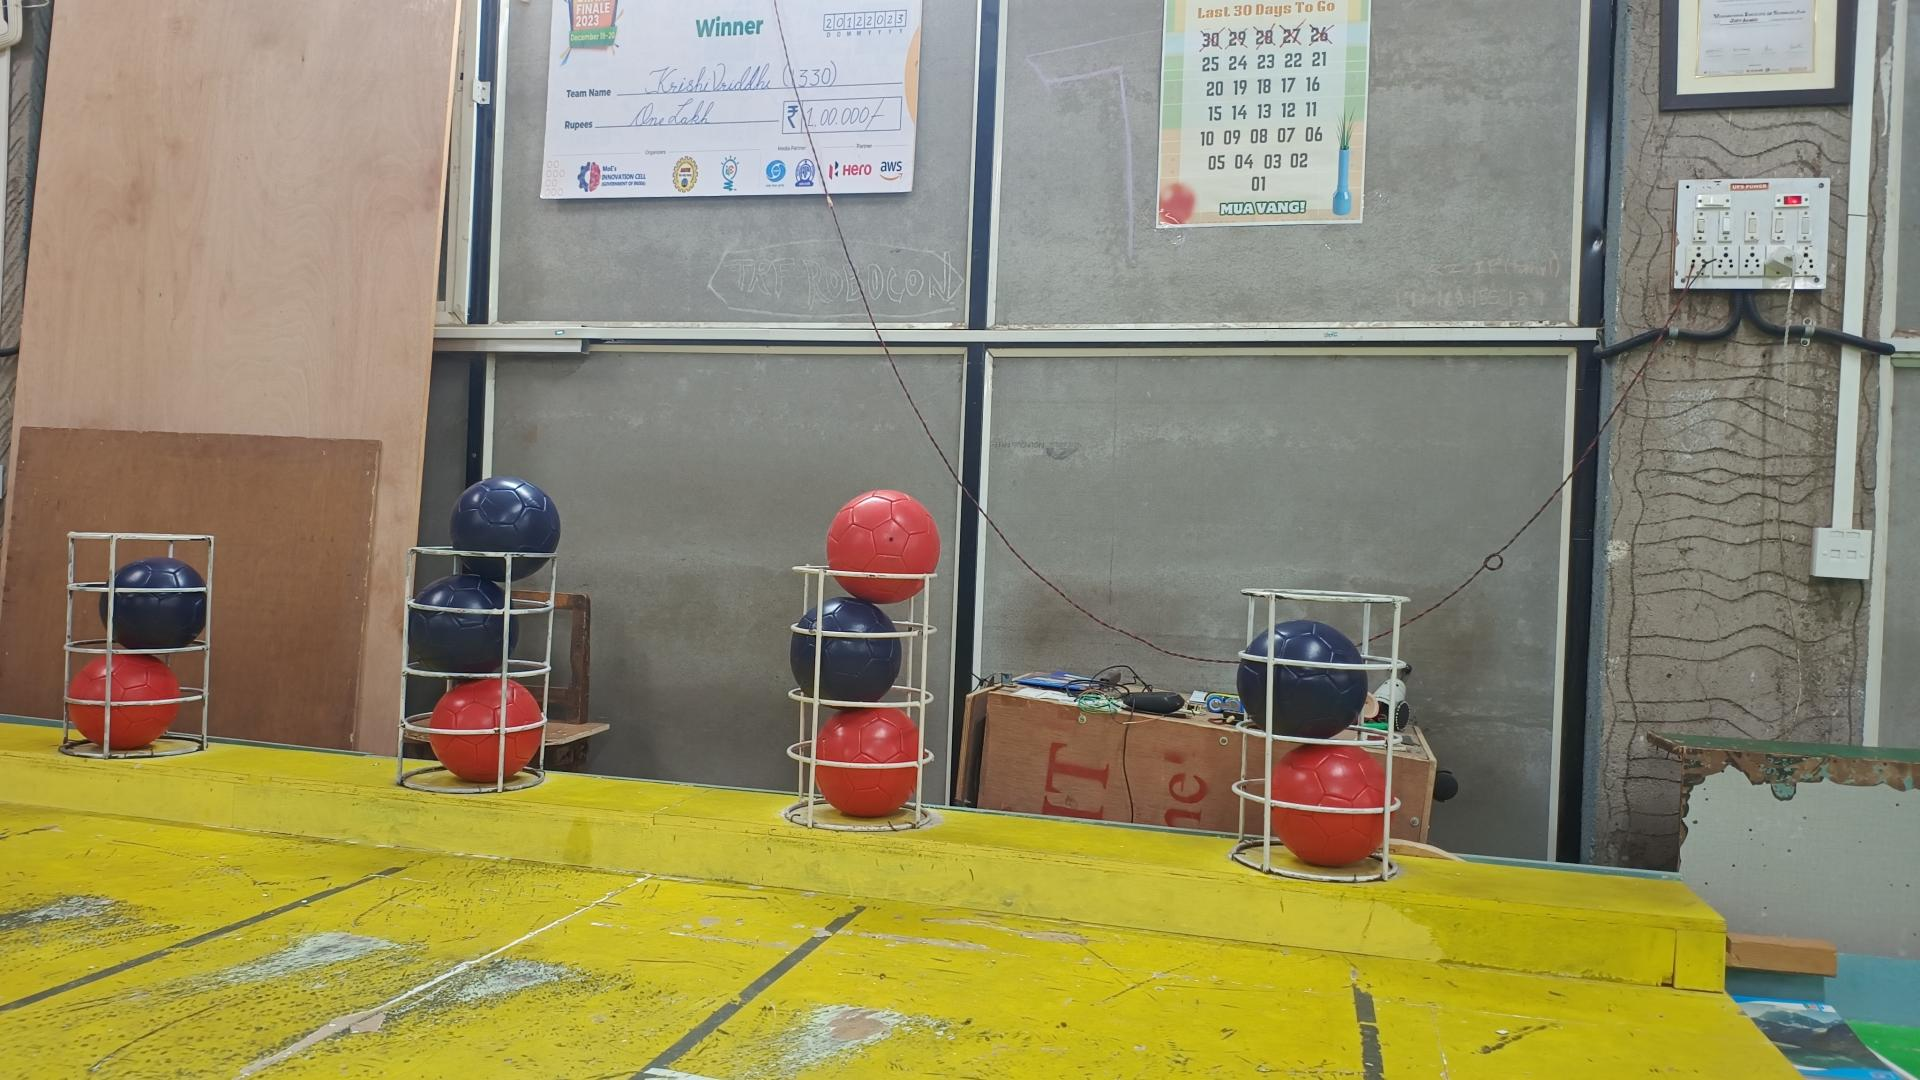dhoka: (1237, 618, 1369, 738), (450, 476, 563, 582), (791, 596, 903, 702), (409, 574, 517, 675), (98, 555, 206, 649)
laale: (1271, 746, 1399, 866), (814, 705, 930, 818), (825, 492, 942, 604), (427, 675, 543, 783), (67, 653, 179, 750)
